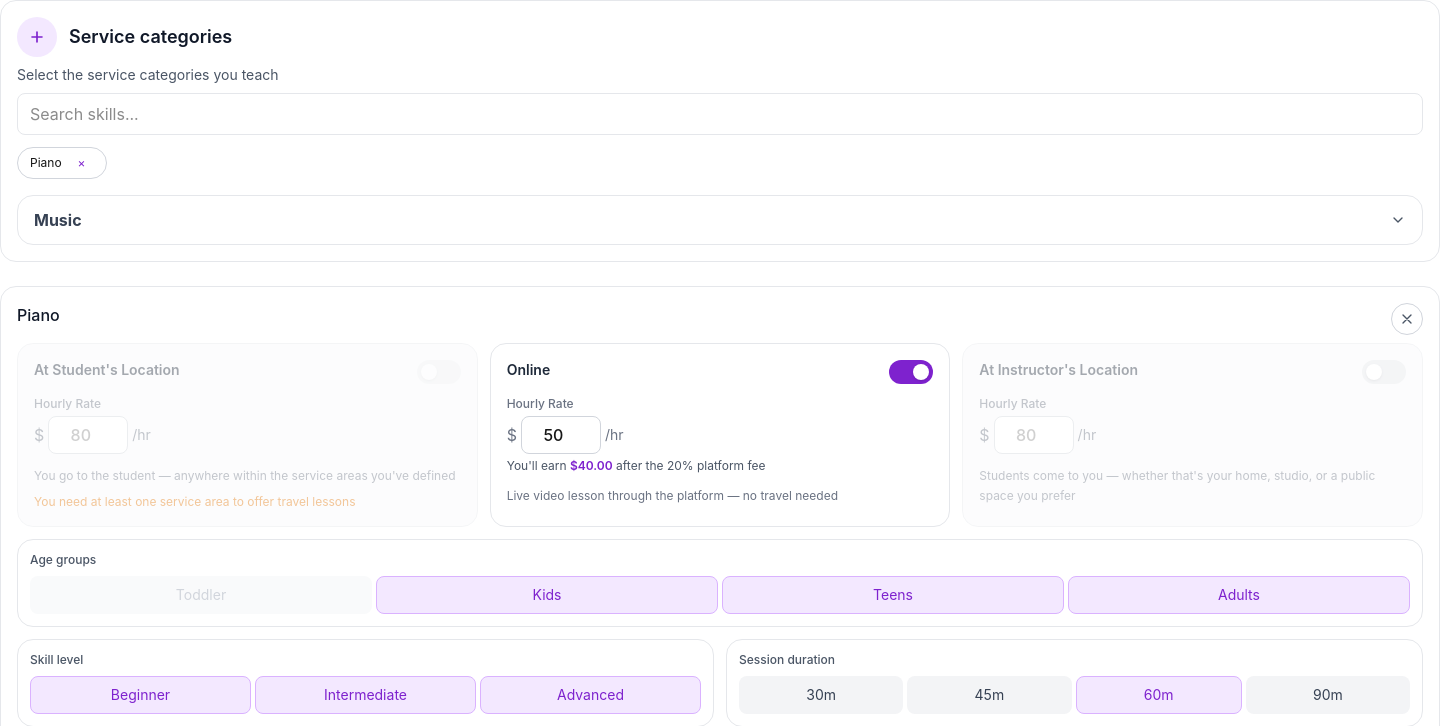
Test: SkillsPricingInline › handles API error with message field
Step 1. Replace the text in the 2nd number field with "55" → (561, 435), box [521, 416, 601, 454]
Wait 1200 ms
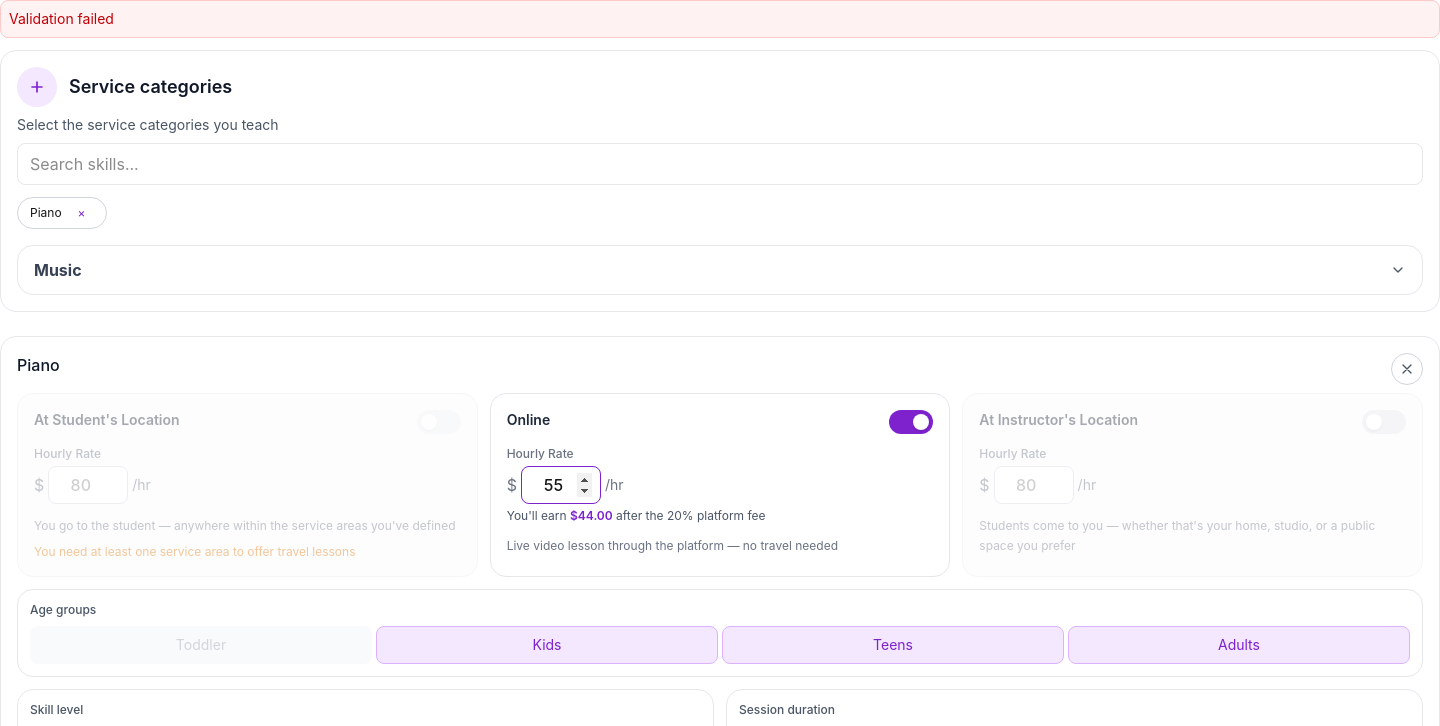
Expected: the text "Validation failed" is shown, [0, 0, 1439, 38]
